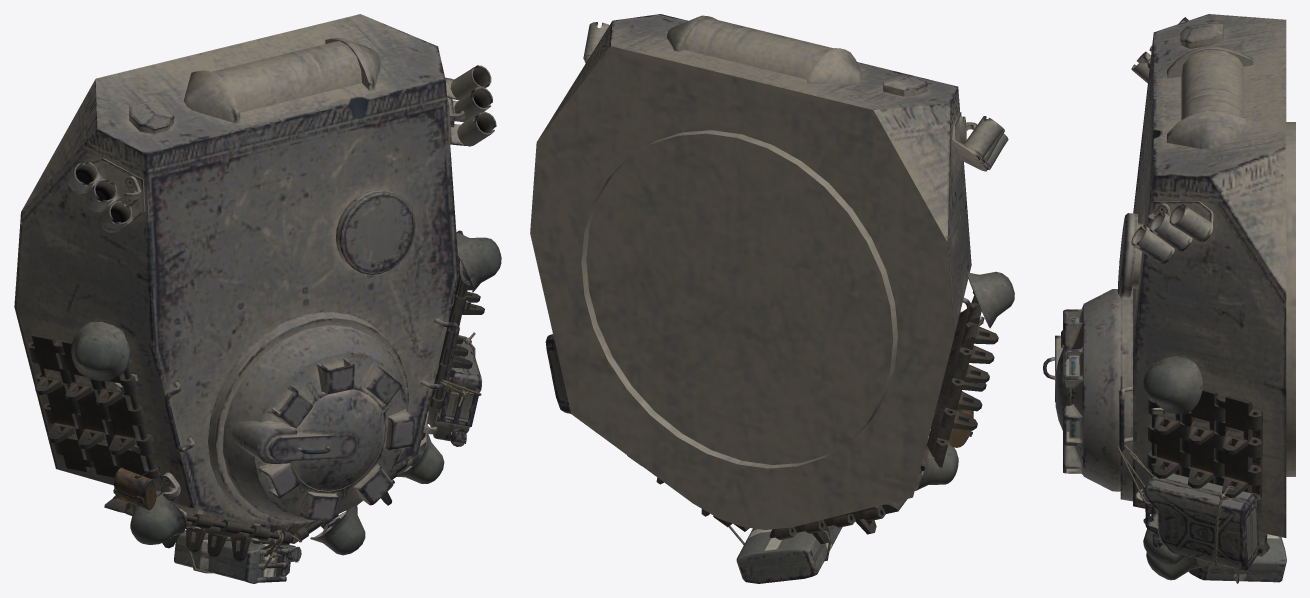
Rendered from Turret_01.glb.
The picture shows the model from 3 angles, left to right: view 1: azimuth 30°, elevation 25°; view 2: azimuth 150°, elevation 25°; view 3: azimuth 270°, elevation 25°; orthographic projection. The views are drawn at different scales.
Parts seen in each view (by area): view 1: set_0_group_0; view 2: set_0_group_0; view 3: set_0_group_0.
Part boxes in pixels (x1=…): set_0_group_0: x1=14, y1=14, x2=501, y2=583; set_0_group_0: x1=530, y1=14, x2=1014, y2=583; set_0_group_0: x1=1043, y1=14, x2=1295, y2=583.
Size of the model in its own units: 2.09 by 2.38 by 1.07.
1 material, 1 textured.
